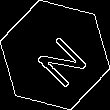N_NW: (24, 23, 86, 87)
